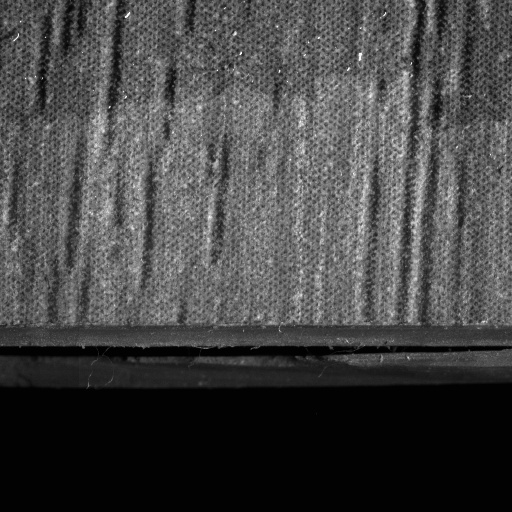kaijiao: (0, 322, 511, 389)
